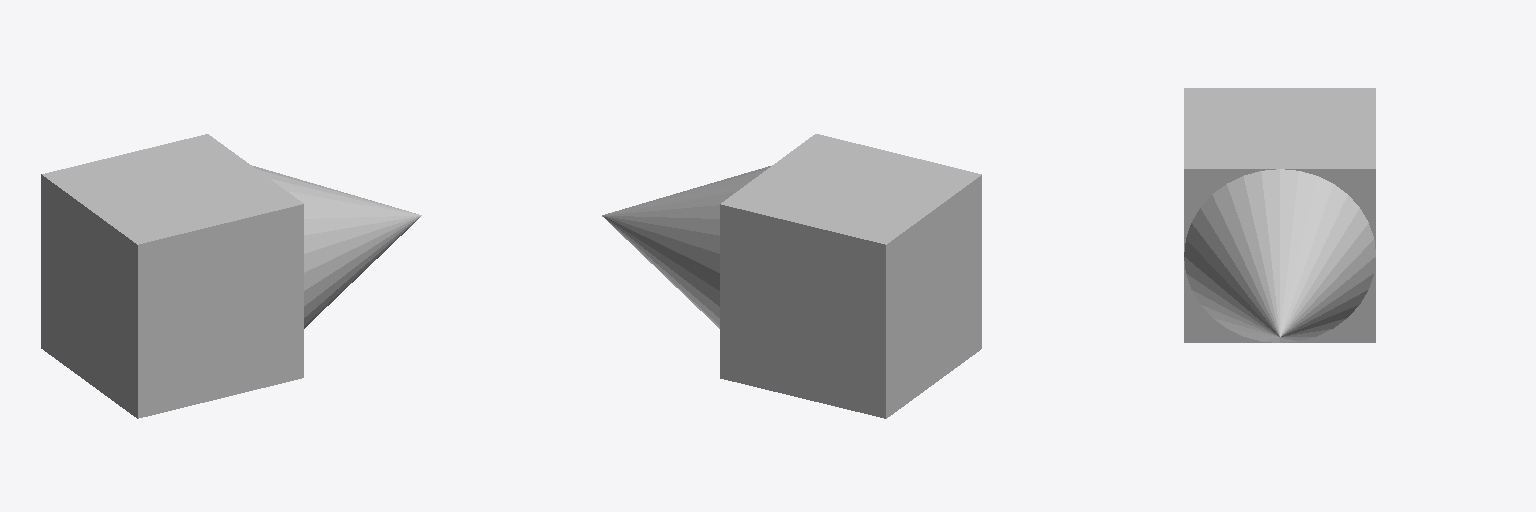
File: camera.obj
3 views of the same model, side by side, from view 1: azimuth 30°, elevation 25°; view 2: azimuth 150°, elevation 25°; view 3: azimuth 270°, elevation 25° (orthographic).
Visible parts, largest first — view 1: Cube, Cone; view 2: Cube, Cone; view 3: Cone, Cube.
Boxes of the visible parts, x1,y1,x2,y2 form: Cube: [41, 134, 303, 418]; Cone: [251, 165, 421, 328]; Cube: [720, 134, 981, 418]; Cone: [602, 166, 770, 328]; Cone: [1184, 169, 1375, 342]; Cube: [1184, 88, 1375, 342].
Size of the model in its own units: 1.2 by 0.6007 by 0.6007.